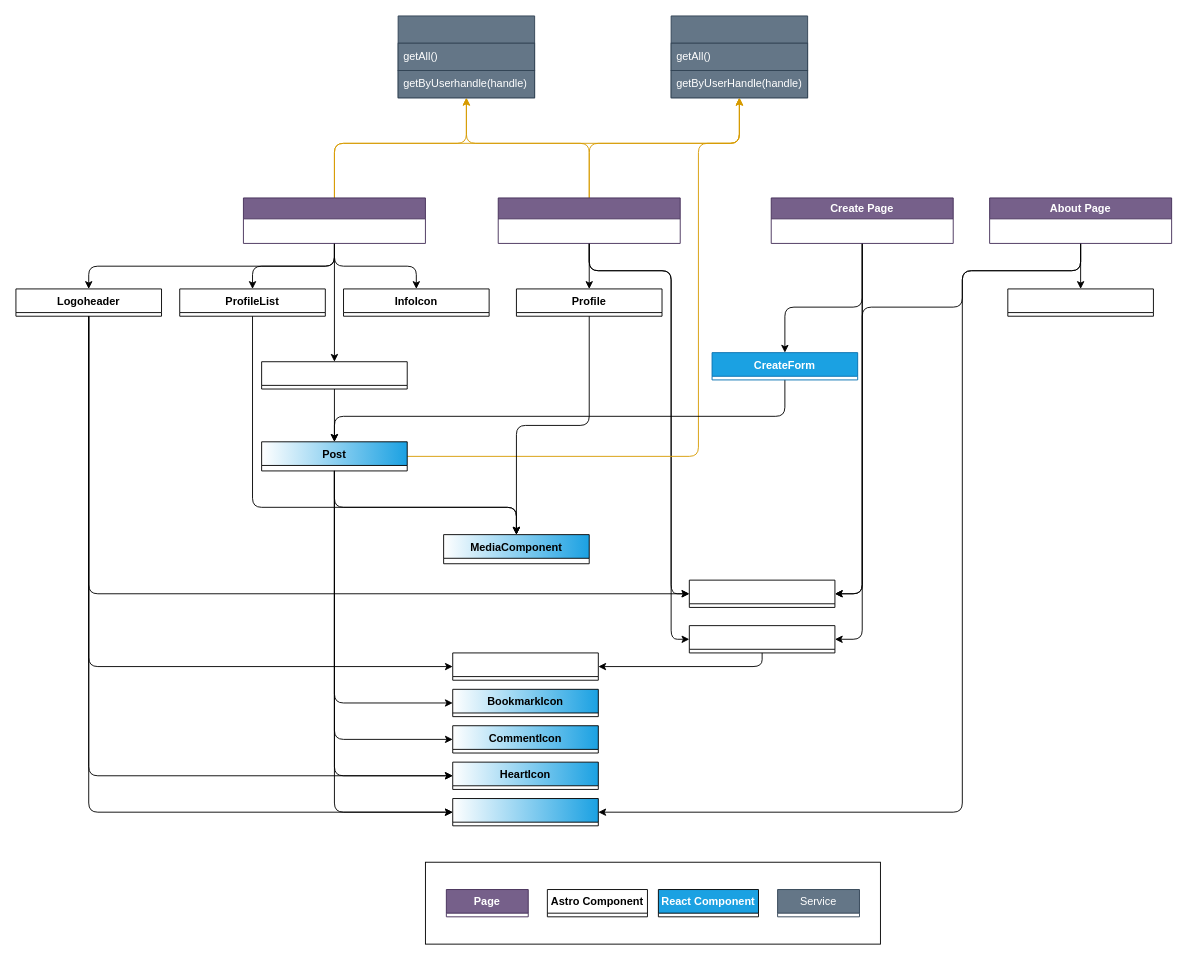
The diagram is 1188 pixels wide and 960 high, and some of its shapes have lost their labels. The shapes that lost their labels are listed below. From the top down, each one's box as (x1, y1, x2, y2) in pixels, then its label:
(397, 15, 535, 98): Post Service
(670, 15, 808, 98): Profile Service
(243, 197, 425, 243): Feed Page
(497, 197, 680, 243): Profile Page
(1007, 288, 1153, 316): InfoBlock
(261, 361, 407, 389): PostList
(688, 579, 835, 607): NotInstagramLogo
(688, 625, 835, 653): XIcon
(452, 652, 598, 680): PlusIcon
(452, 798, 598, 826): SendIcon
